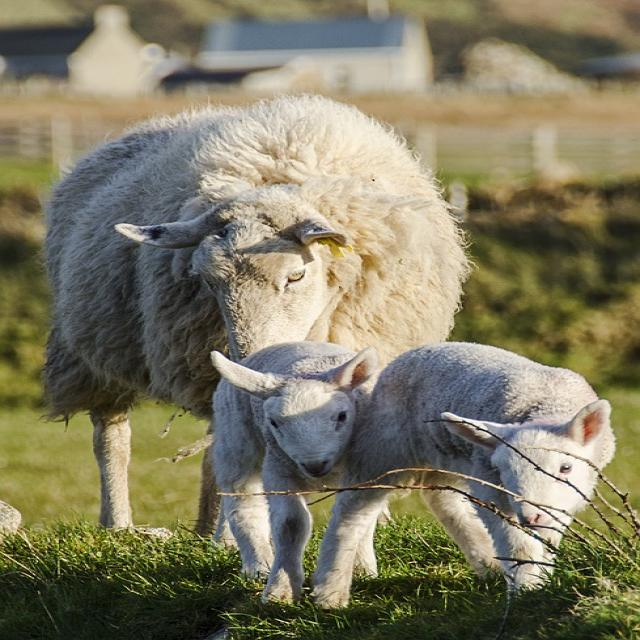goat: (44, 96, 468, 528), (319, 344, 613, 588), (211, 342, 378, 601)
